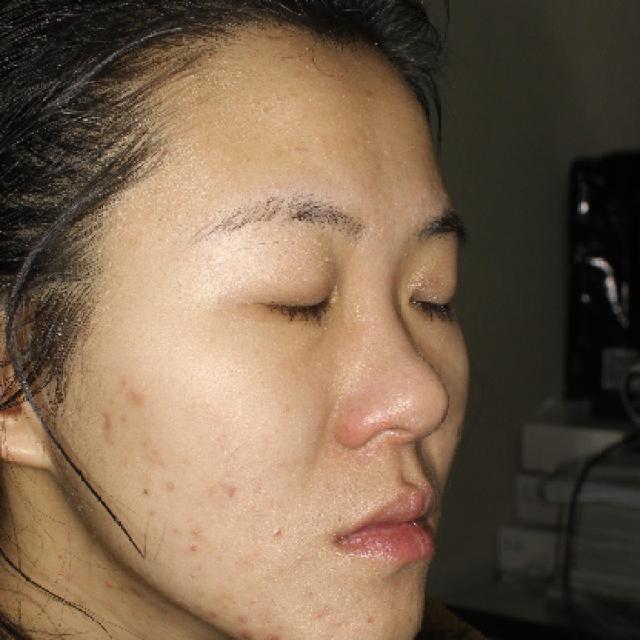acne: (264, 516, 294, 546), (130, 474, 158, 504)
